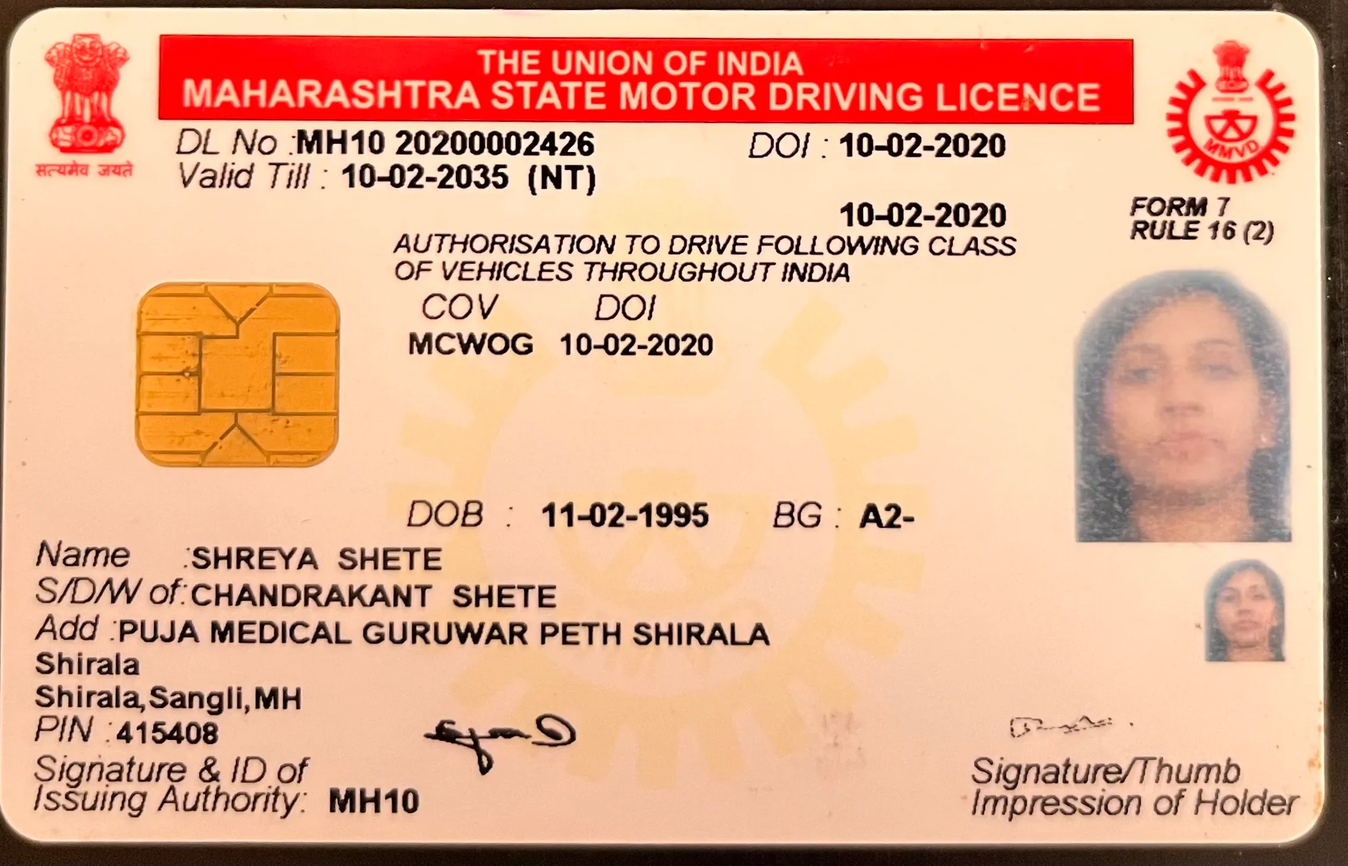drivinglicence: (7, 10, 1324, 842)
